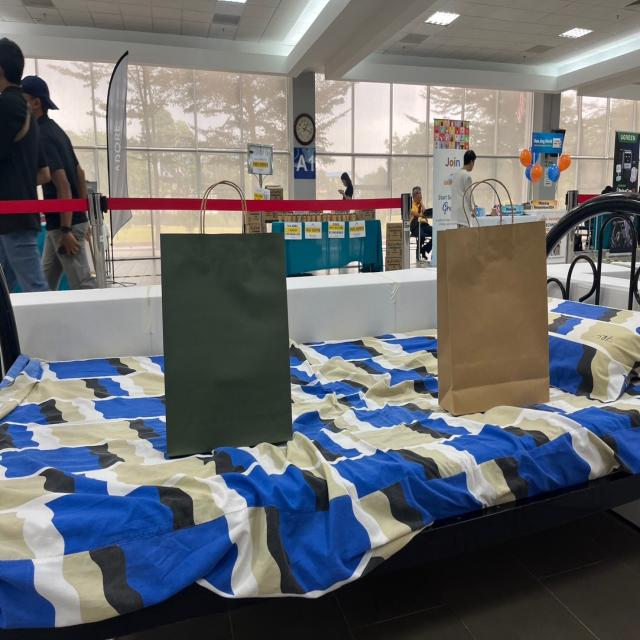bag: (155, 174, 292, 448), (437, 170, 549, 402)
